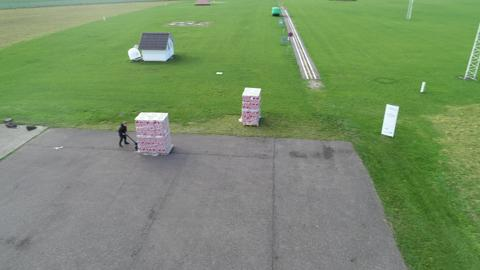RockwoolPallet: (242, 87, 263, 126)
